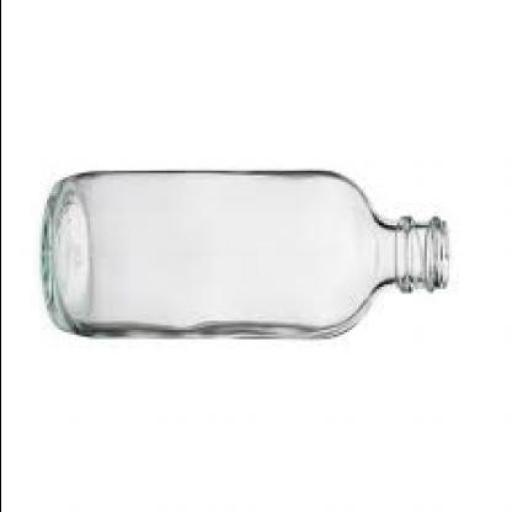glass: (43, 176, 451, 342)
